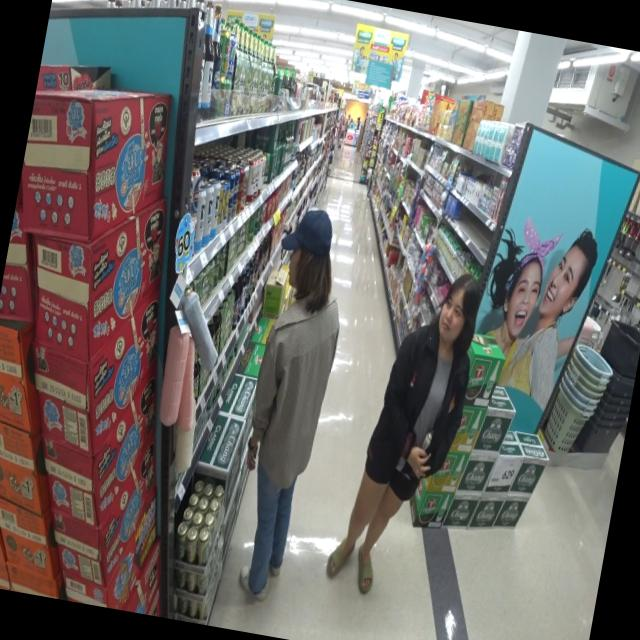shoplifting: (336, 269, 479, 629)
